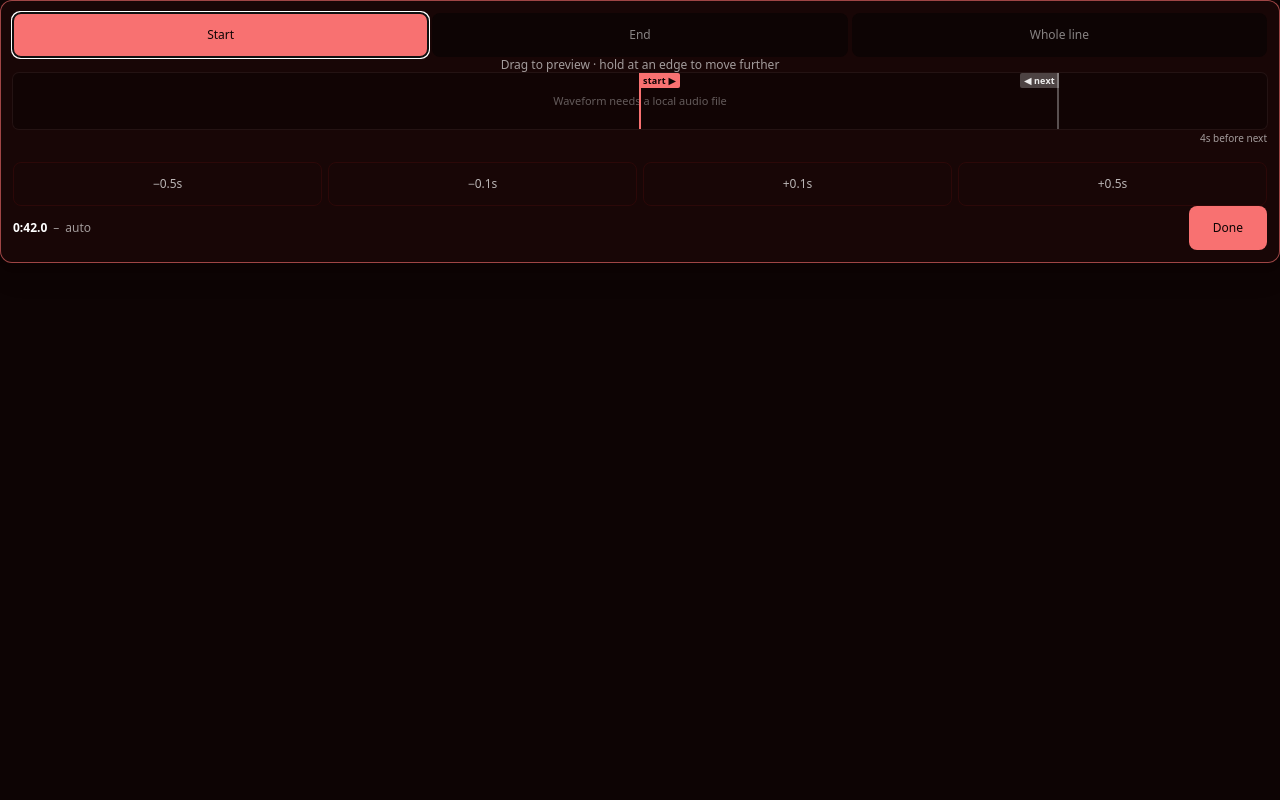
Test: TimestampPopover › holds the scrub window fixed during a drag so the thumb does not spring back to centre
Press the mouse on the slider named "Scrub start timestamp" at {"x": 640, "y": 101}, box [13, 73, 1267, 129]
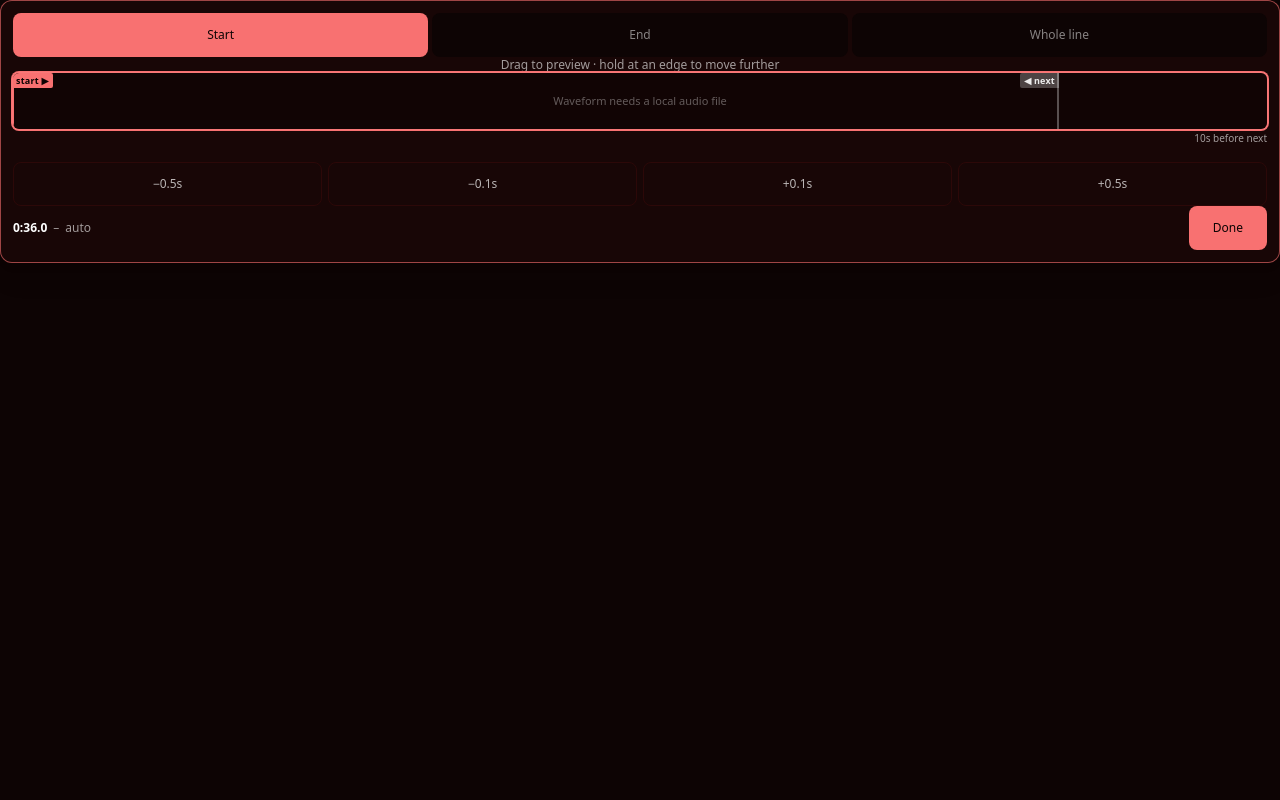
Set the slider named "Scrub start timestamp" to "47" at {"x": 640, "y": 101}, box [13, 73, 1267, 129]
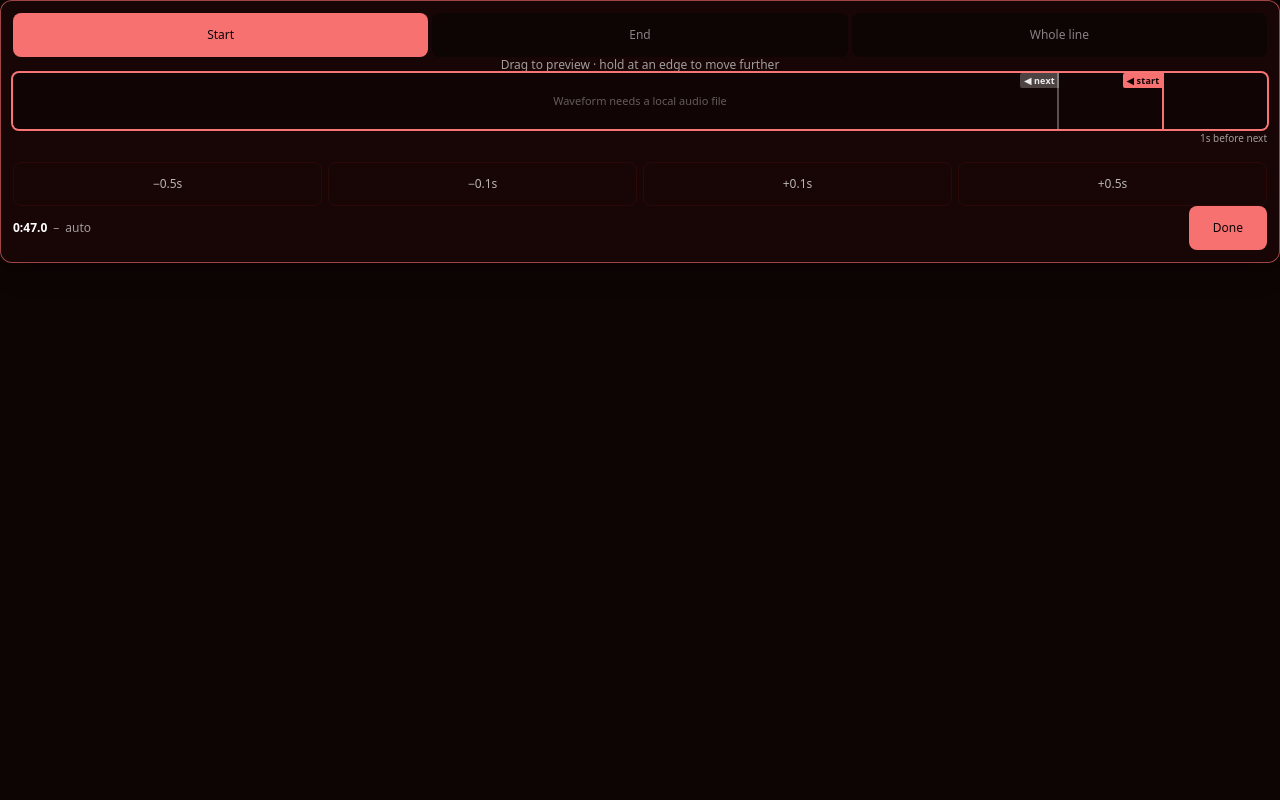
Now the text "0:47.0" is shown, box [13, 220, 47, 236]
